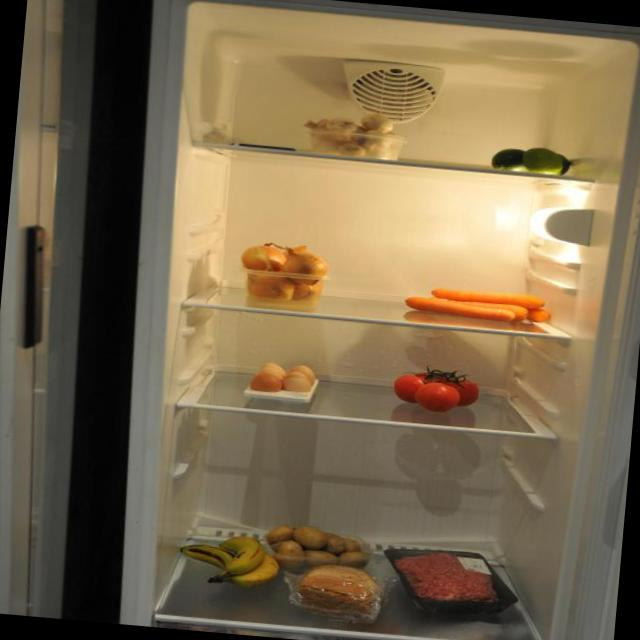Carne vacuno: (384, 547, 519, 609)
Cebolla: (234, 237, 328, 310)
Champiñones: (296, 105, 404, 164)
Huevos: (250, 361, 320, 395)
Patata: (261, 520, 372, 568)
Plátano: (182, 532, 284, 591)
Tomate: (390, 362, 490, 412)
Zanahoria: (402, 282, 558, 328)
bread: (291, 561, 382, 626)
chocolate: (228, 140, 300, 150)
